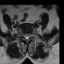CCS_normal: (26, 33, 27, 42)
LFS_normal: (29, 32, 31, 39)
LLS_normal: (27, 33, 29, 41)
RFS_stenosis: (22, 32, 24, 38)
RLS_normal: (24, 33, 26, 40)
